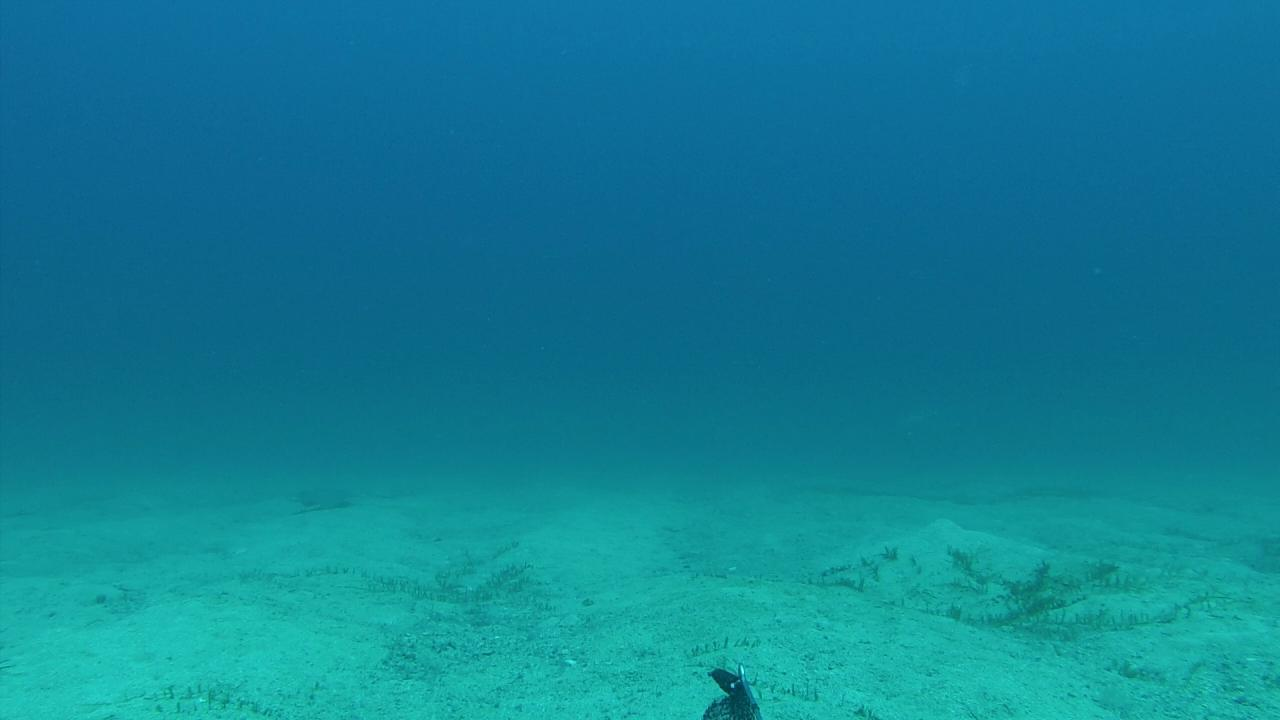dasyatis: (284, 486, 412, 506)
